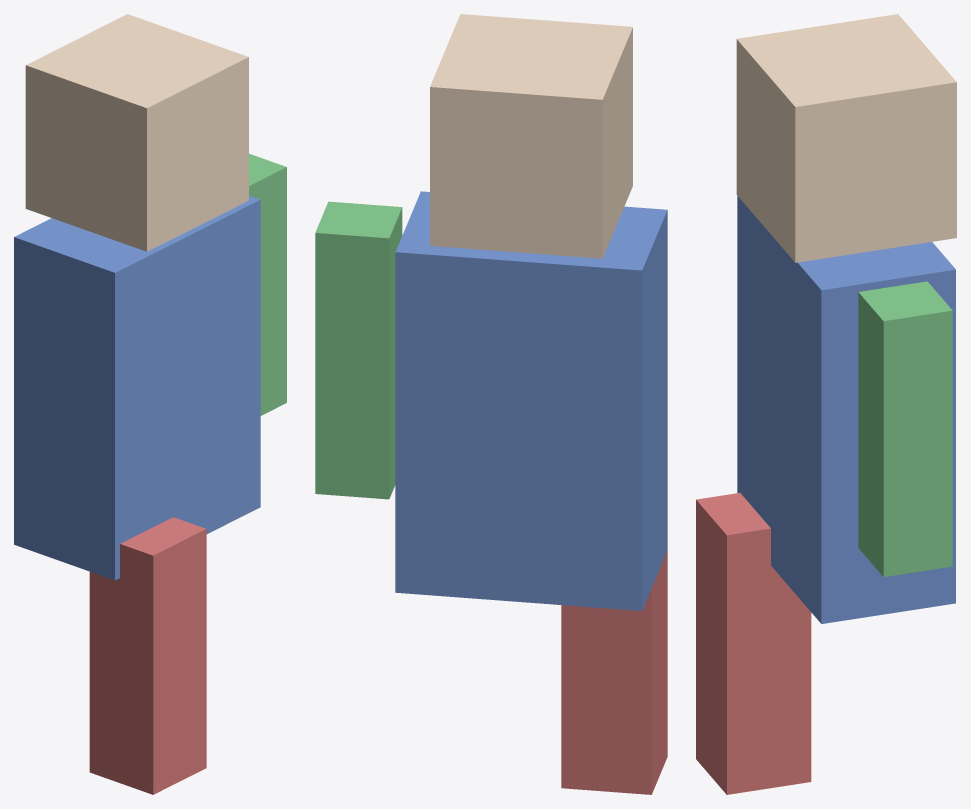
File: test_figure.glb
3 views of the same model, side by side, from view 1: azimuth 30°, elevation 25°; view 2: azimuth 150°, elevation 25°; view 3: azimuth 270°, elevation 25° (orthographic). The views are drawn at different scales.
Visible parts, largest first — view 1: torso, head, legL, armR; view 2: torso, head, armR, legL; view 3: torso, head, legL, armR.
Boxes of the visible parts, box(x1,y1,x2,y2) form: torso: box(14, 195, 260, 580); head: box(25, 14, 248, 251); legL: box(89, 517, 206, 794); armR: box(249, 153, 286, 415); torso: box(395, 191, 667, 610); head: box(430, 14, 632, 258); armR: box(315, 201, 402, 499); legL: box(561, 551, 667, 794); torso: box(737, 196, 955, 623); head: box(736, 14, 956, 262); legL: box(696, 493, 811, 794); armR: box(858, 281, 952, 576).
Size of the model in its own units: 0.8518 by 1.96 by 0.6374.
